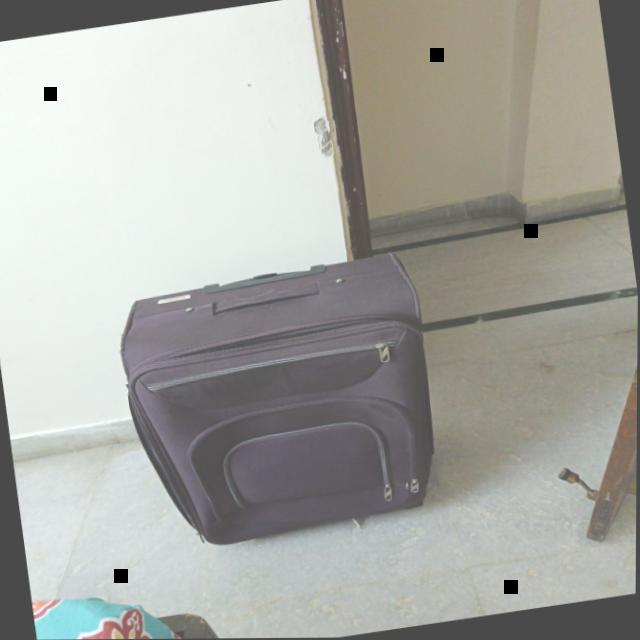luggage: (107, 245, 454, 559)
